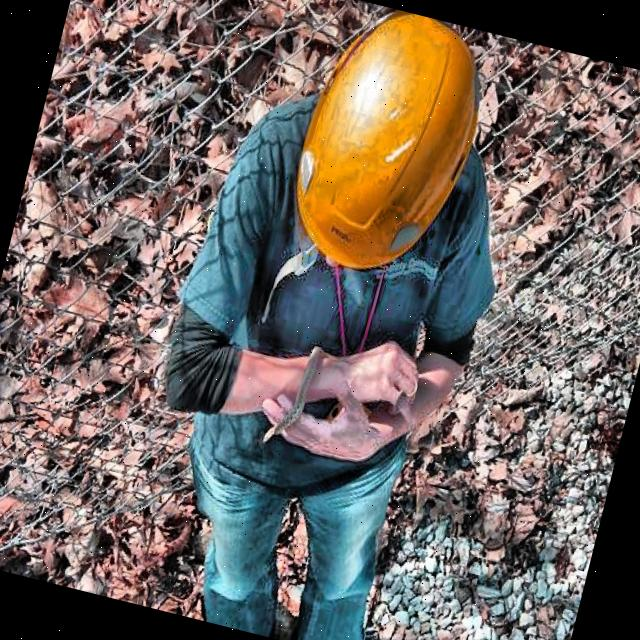helmet: (262, 0, 508, 290)
